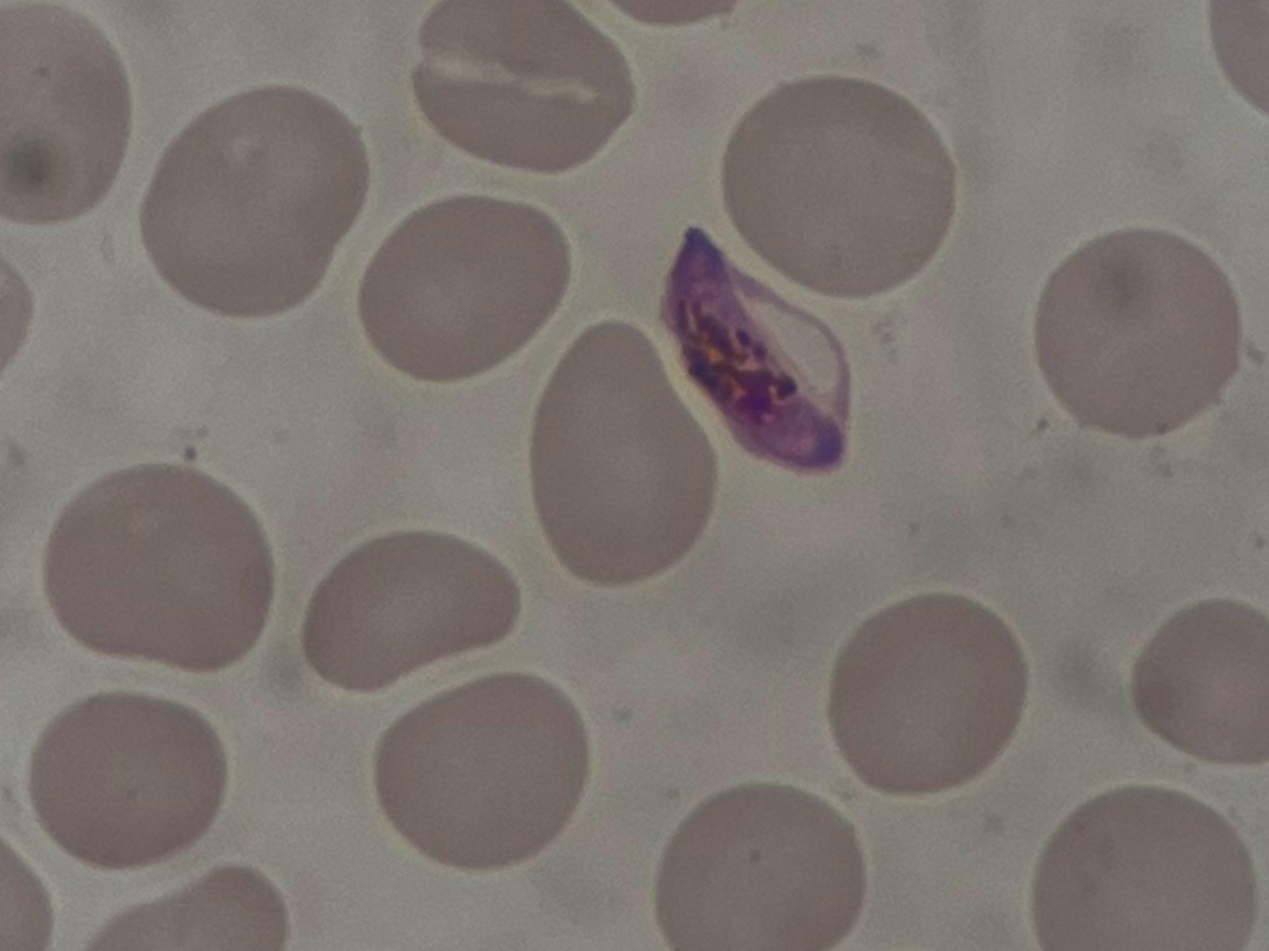Infected: (665, 225, 853, 471)
Uninfected: (137, 82, 370, 318), (720, 76, 962, 296), (40, 461, 275, 675), (531, 320, 717, 590), (1031, 225, 1247, 445), (375, 673, 589, 871), (361, 192, 579, 386), (826, 593, 1030, 796), (412, 1, 633, 170), (302, 532, 526, 693), (29, 690, 231, 866), (1033, 789, 1250, 951), (654, 785, 864, 951), (0, 0, 131, 217), (1132, 598, 1269, 765)
